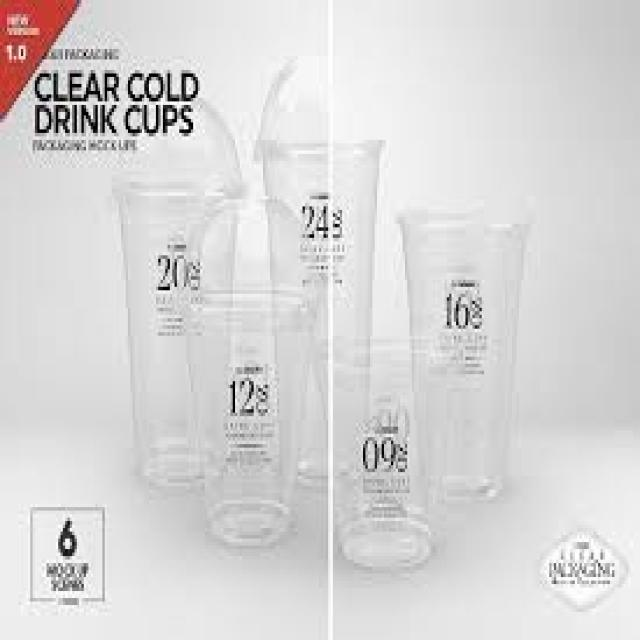bottle: (263, 141, 383, 482), (403, 205, 527, 497), (117, 182, 213, 487), (207, 284, 299, 547), (336, 338, 433, 569)
